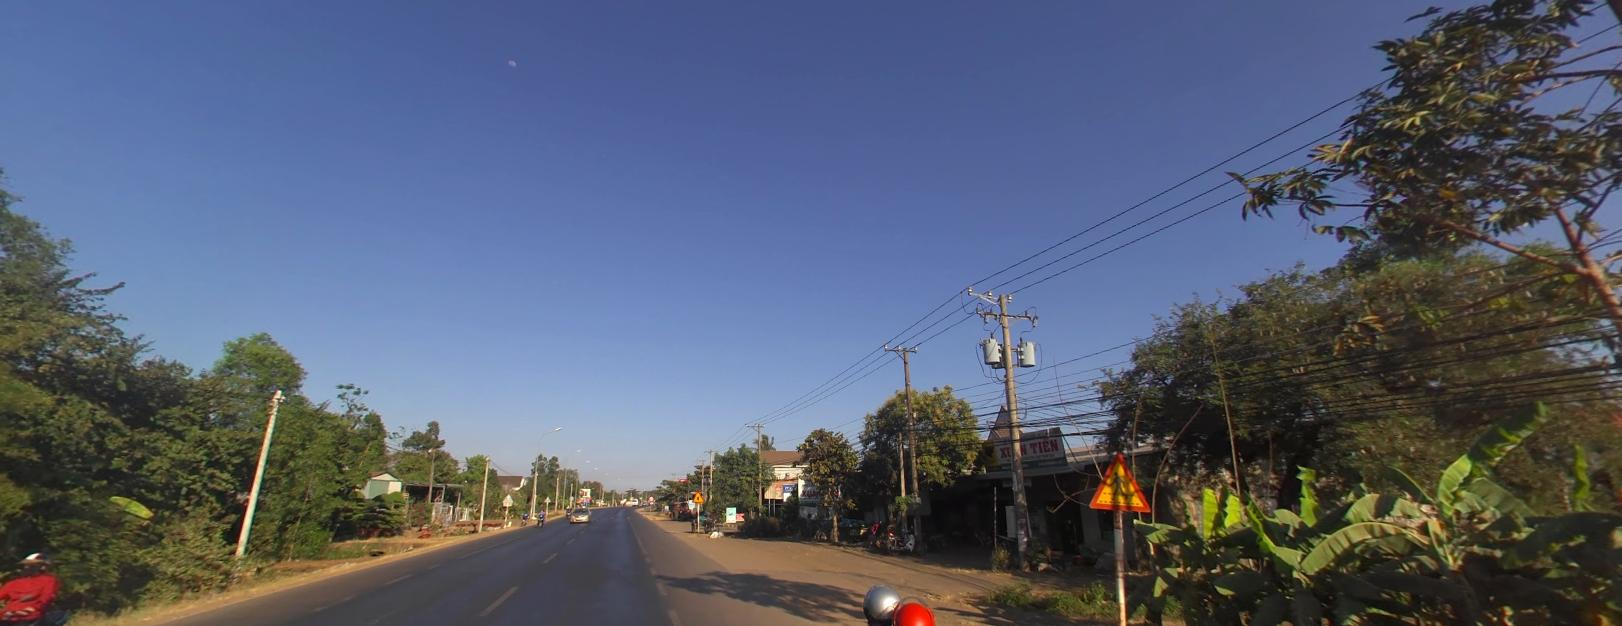Nguy hiem: (1089, 449, 1150, 510), (1088, 451, 1150, 510), (692, 490, 704, 501), (691, 490, 704, 500)
